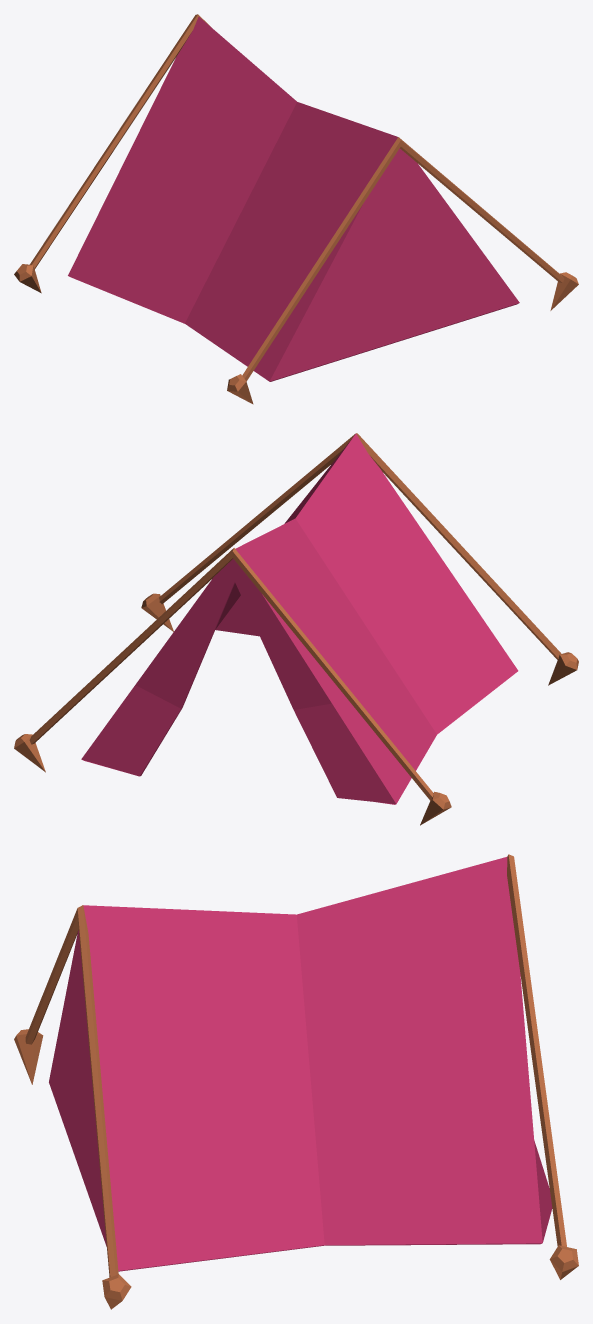
Rendered from tent.fbx.
3 renders of one model, top to bottom at view 1: azimuth 30°, elevation 25°; view 2: azimuth 150°, elevation 25°; view 3: azimuth 270°, elevation 25°, orthographic. The views are drawn at different scales.
Visible parts, largest first — view 1: Tent_Cube.001; view 2: Tent_Cube.001; view 3: Tent_Cube.001.
Boxes of the visible parts, <box> form: Tent_Cube.001: <box>14,14,578,404</box>; Tent_Cube.001: <box>14,433,578,825</box>; Tent_Cube.001: <box>14,854,578,1309</box>.
Bounding box in the file's own units: 321 × 173 × 275.
